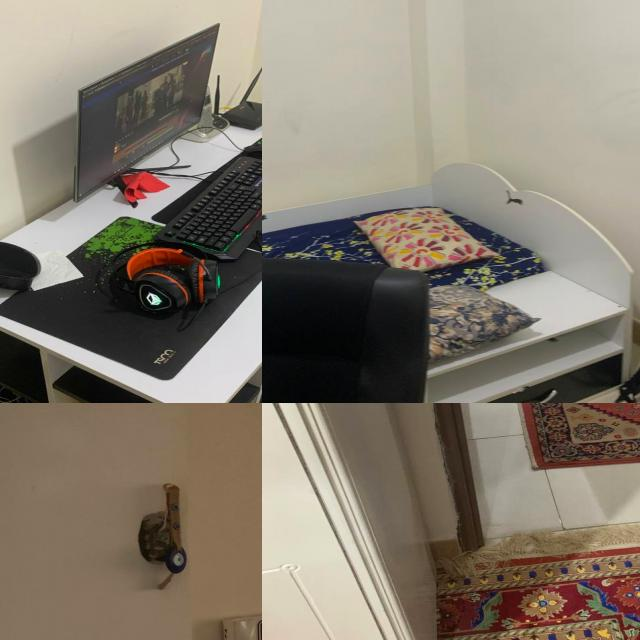Floor: (467, 403, 640, 539)
Wall: (0, 403, 262, 640), (262, 0, 418, 215), (390, 403, 457, 517)
